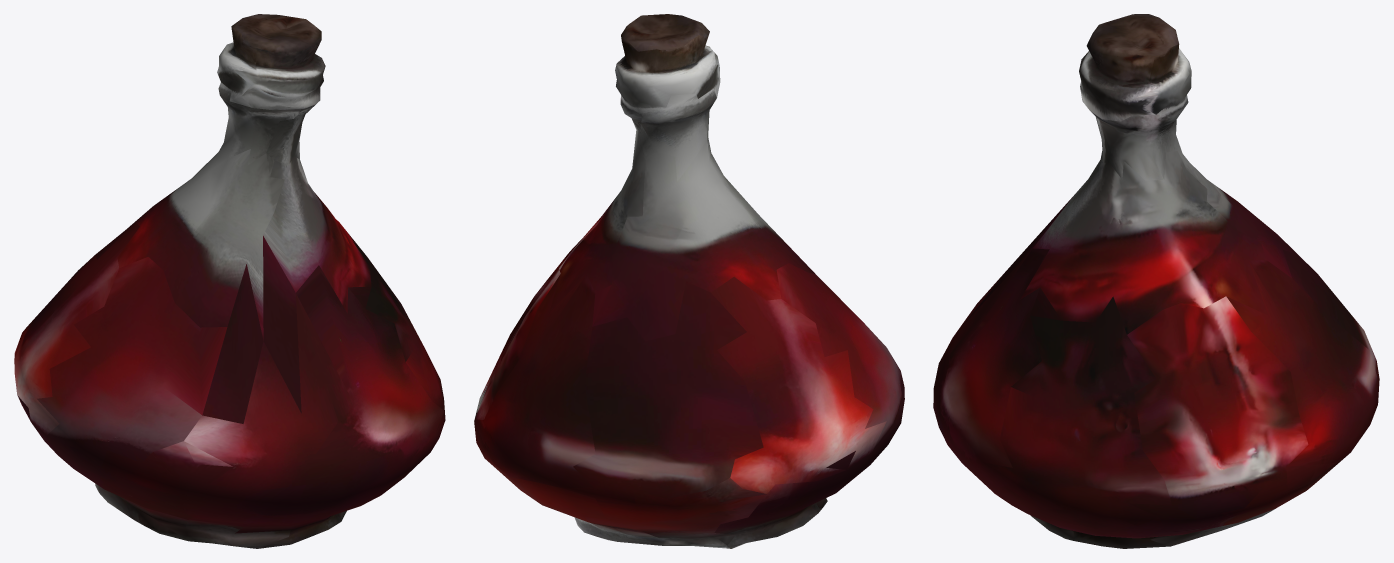
Rendered from red.fbx.
3 renders of one model, left to right at view 1: azimuth 30°, elevation 25°; view 2: azimuth 150°, elevation 25°; view 3: azimuth 270°, elevation 25°, orthographic. The views are drawn at different scales.
Visible parts, largest first — view 1: meshes[0]; view 2: meshes[0]; view 3: meshes[0].
Boxes of the visible parts, x1,y1,x2,y2 form: meshes[0]: (14,14,445,548); meshes[0]: (474,14,904,548); meshes[0]: (933,14,1379,548).
Bounding box in the file's own units: 79.97 × 98.99 × 81.47.
1 material, 1 textured.
